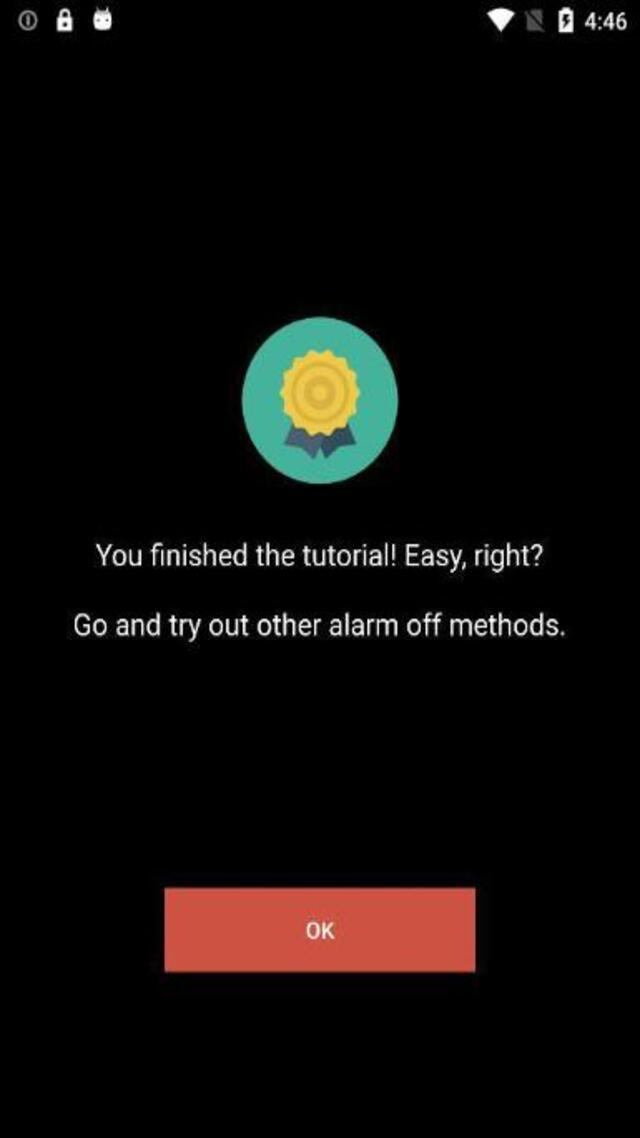Image: (241, 316, 397, 484)
Text: (74, 610, 564, 642), (95, 540, 542, 572), (302, 918, 342, 944)
TextButton: (163, 888, 474, 972)
